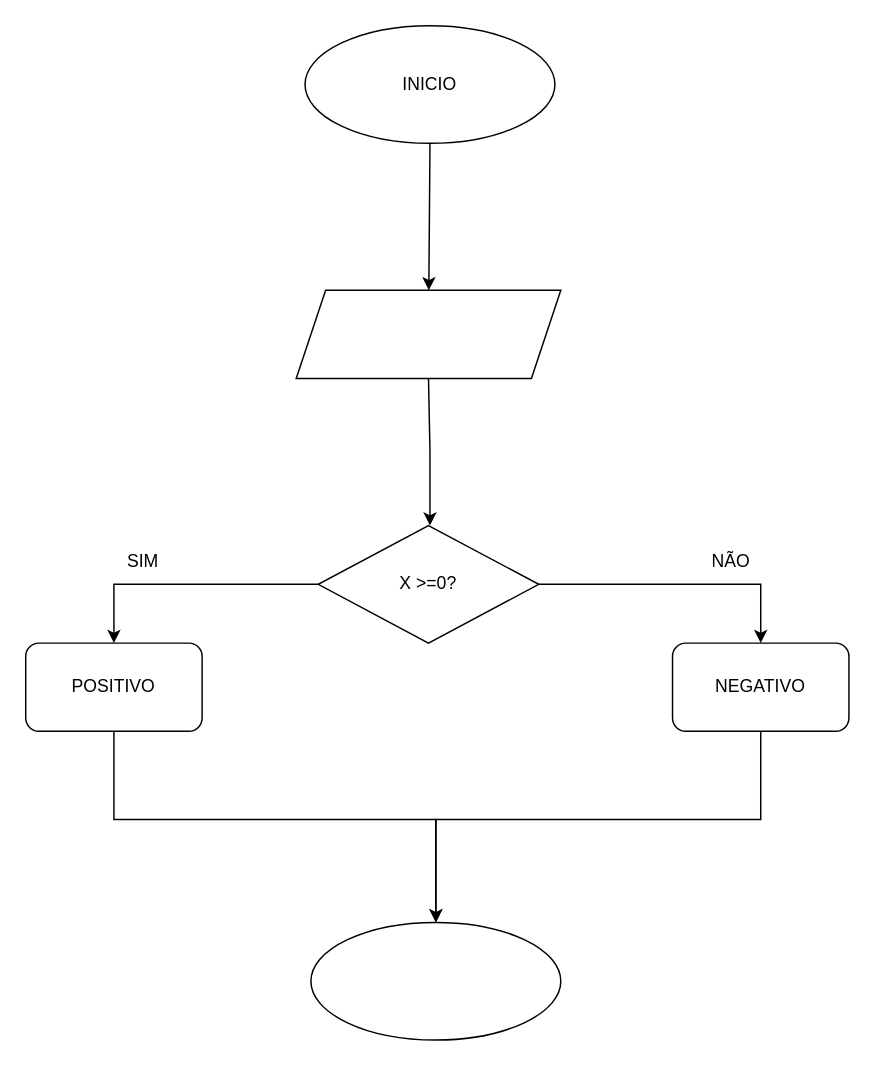
Some shapes in this 875 by 1066 pixel diagram are drawn without their labels. Each missing label, with the box of its shape:
FIM: (309, 921, 561, 1040)
LER NUMERO: (295, 289, 561, 379)
